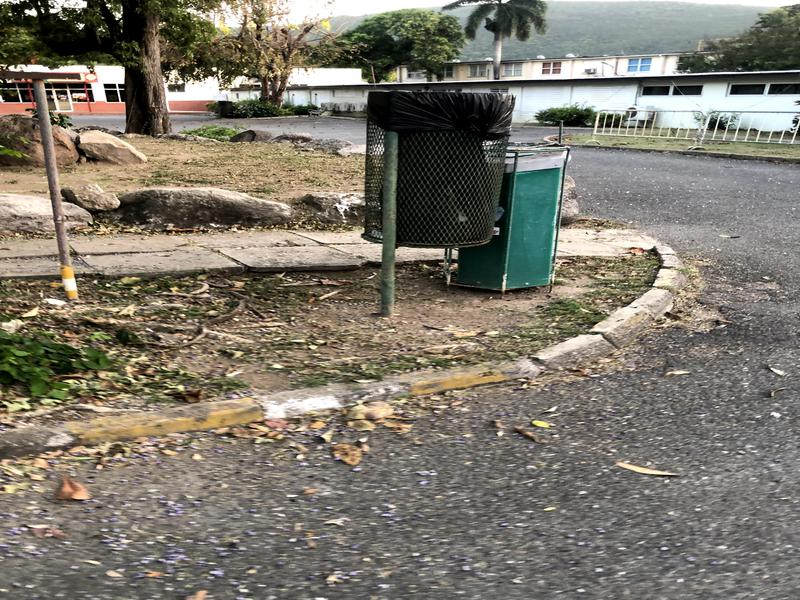18.0053245_-76.7486424_recyclebin: (461, 141, 578, 306)
